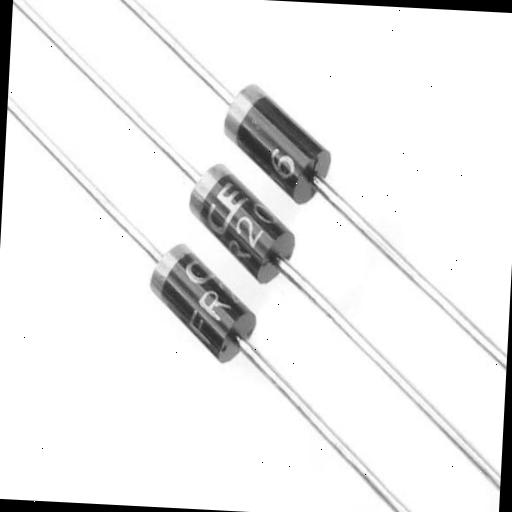DIODE: (170, 51, 397, 263), (134, 225, 290, 383), (188, 166, 310, 302)
